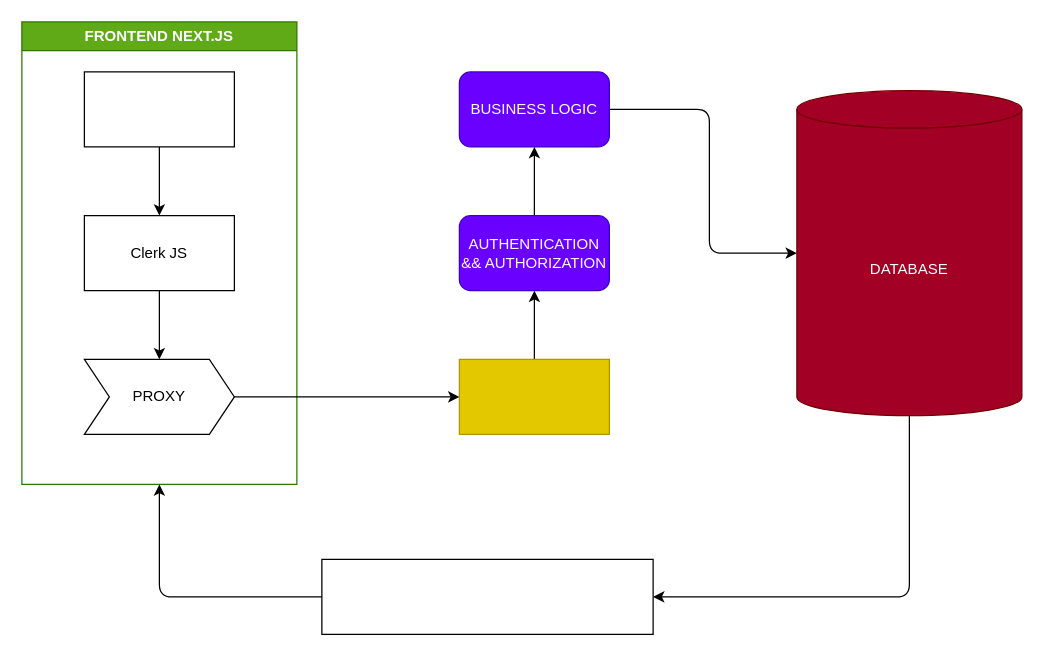
This 1044x656 diagram has some shape labels left out. The shapes that lost their labels are listed below. From the top down, each one's centre as x and y in pixels, then its label:
At [158,109]: "AXIOS (POST, GET, PUT, DEL)".
At [533,396]: "API ENDPOINTS".
At [487,596]: "FEEDING CHAIN".
